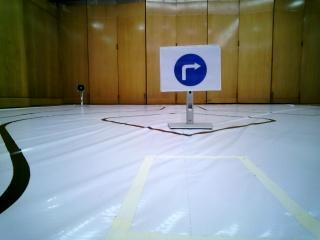right: (160, 47, 219, 89)
